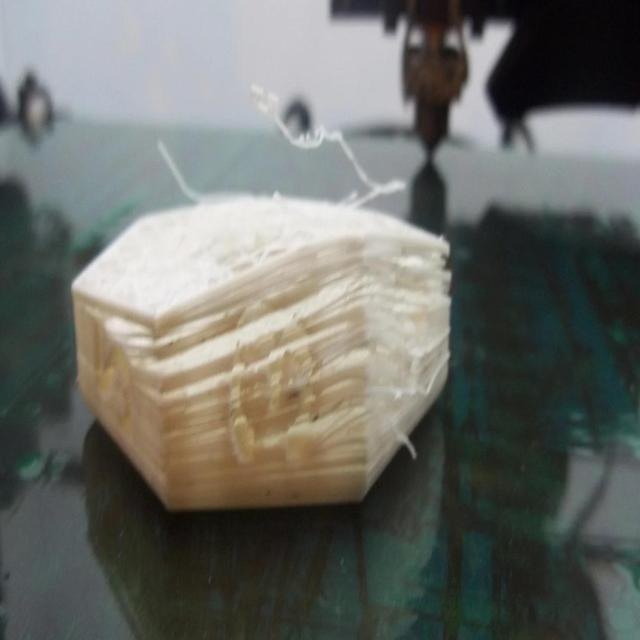spaghetti: (205, 268, 373, 476), (400, 319, 450, 405)
